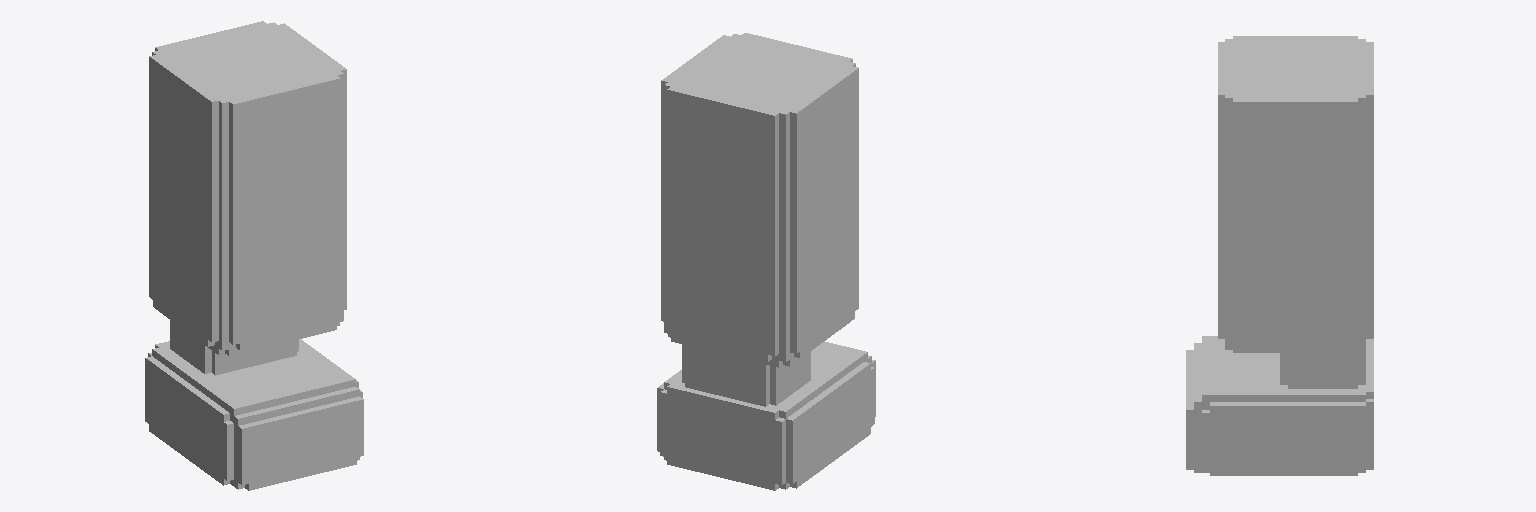
File: Shin.obj
3 views of the same model, side by side, from view 1: azimuth 30°, elevation 25°; view 2: azimuth 150°, elevation 25°; view 3: azimuth 270°, elevation 25° (orthographic).
Visible parts, largest first — view 1: Untitled; view 2: Untitled; view 3: Untitled.
Boxes of the visible parts, <box> form: Untitled: <box>145,21,363,490</box>; Untitled: <box>657,33,875,490</box>; Untitled: <box>1186,36,1373,475</box>.
Bounding box in the file's own units: 2 × 5.3 × 2.4.